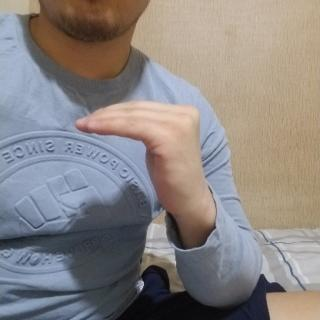HAA: (72, 98, 219, 221)
